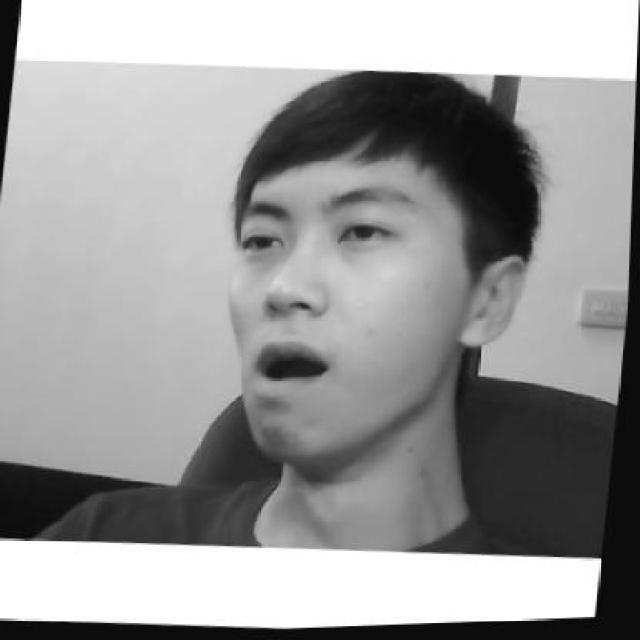inattentif: (208, 59, 547, 478)
